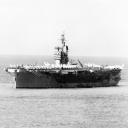Portanaves: (5, 28, 126, 90)
